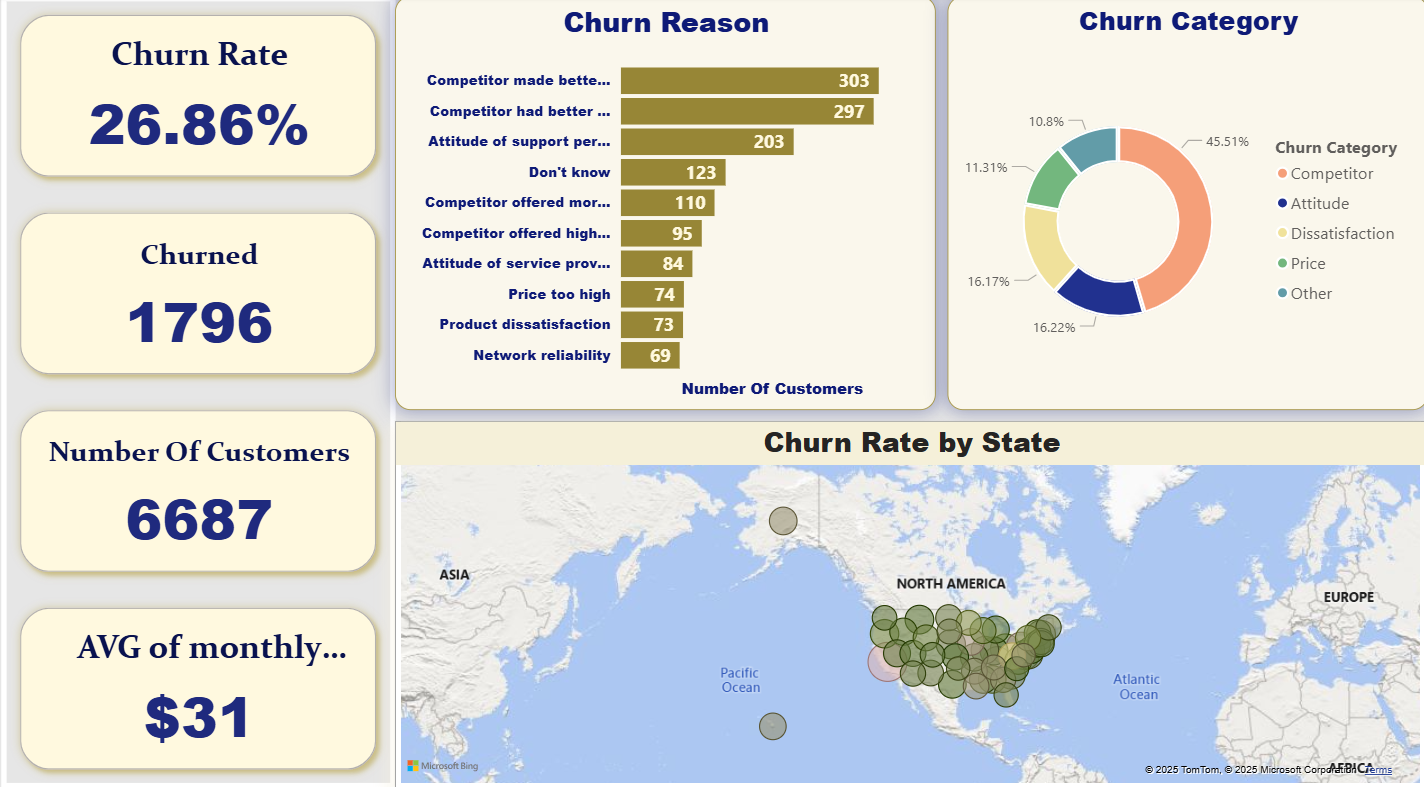

Layout of this report page (visuals, bound fields, positions):
{"tool":"powerbi","page":{"name":"Overview","canvas":[1280,720],"ordinal":0},"visuals":[{"type":"cardVisual","fields":{"Data":["Databel - Data (2).Number Of Customers","Databel - Data (2).Churned of Customers","Databel - Data (2).Churn Rate","Databel - Data (2).AVG of monthly charged"]},"box":[9.6,0,351.3,706.7],"z":0},{"type":"clusteredBarChart","title":"Churn Reason","fields":{"Y":["Databel - Data (2).Number Of Customers"],"Category":["Databel - Data (2).Churn Reason"]},"box":[360.9,0,481.6,369.1],"z":1000},{"type":"donutChart","title":"Churn Category","fields":{"Category":["Databel - Data (2).Churn Category"],"Y":["CountNonNull(Databel - Data (2).Churn Label)"]},"box":[852.1,0,428.1,369.1],"z":2000},{"type":"map","title":"Churn Rate by State","fields":{"Category":["Databel - Data.State"],"Size":["Databel - Data (2).Churn Rate"]},"box":[360.7,378.8,919.3,328.2],"z":3000}]}

Visuals, with their boxes in screenshot pixels (x1, y1, x2, y2), scaled from the page's 1280x720 canvas onto the 1424x787 screenshot:
cardVisual - Databel - Data (2).Number Of Customers x Databel - Data (2).Churned of Customers: box(11, 0, 402, 772)
"Churn Reason" clusteredBarChart: box(402, 0, 937, 403)
"Churn Category" donutChart: box(948, 0, 1423, 403)
"Churn Rate by State" map: box(401, 414, 1423, 773)
